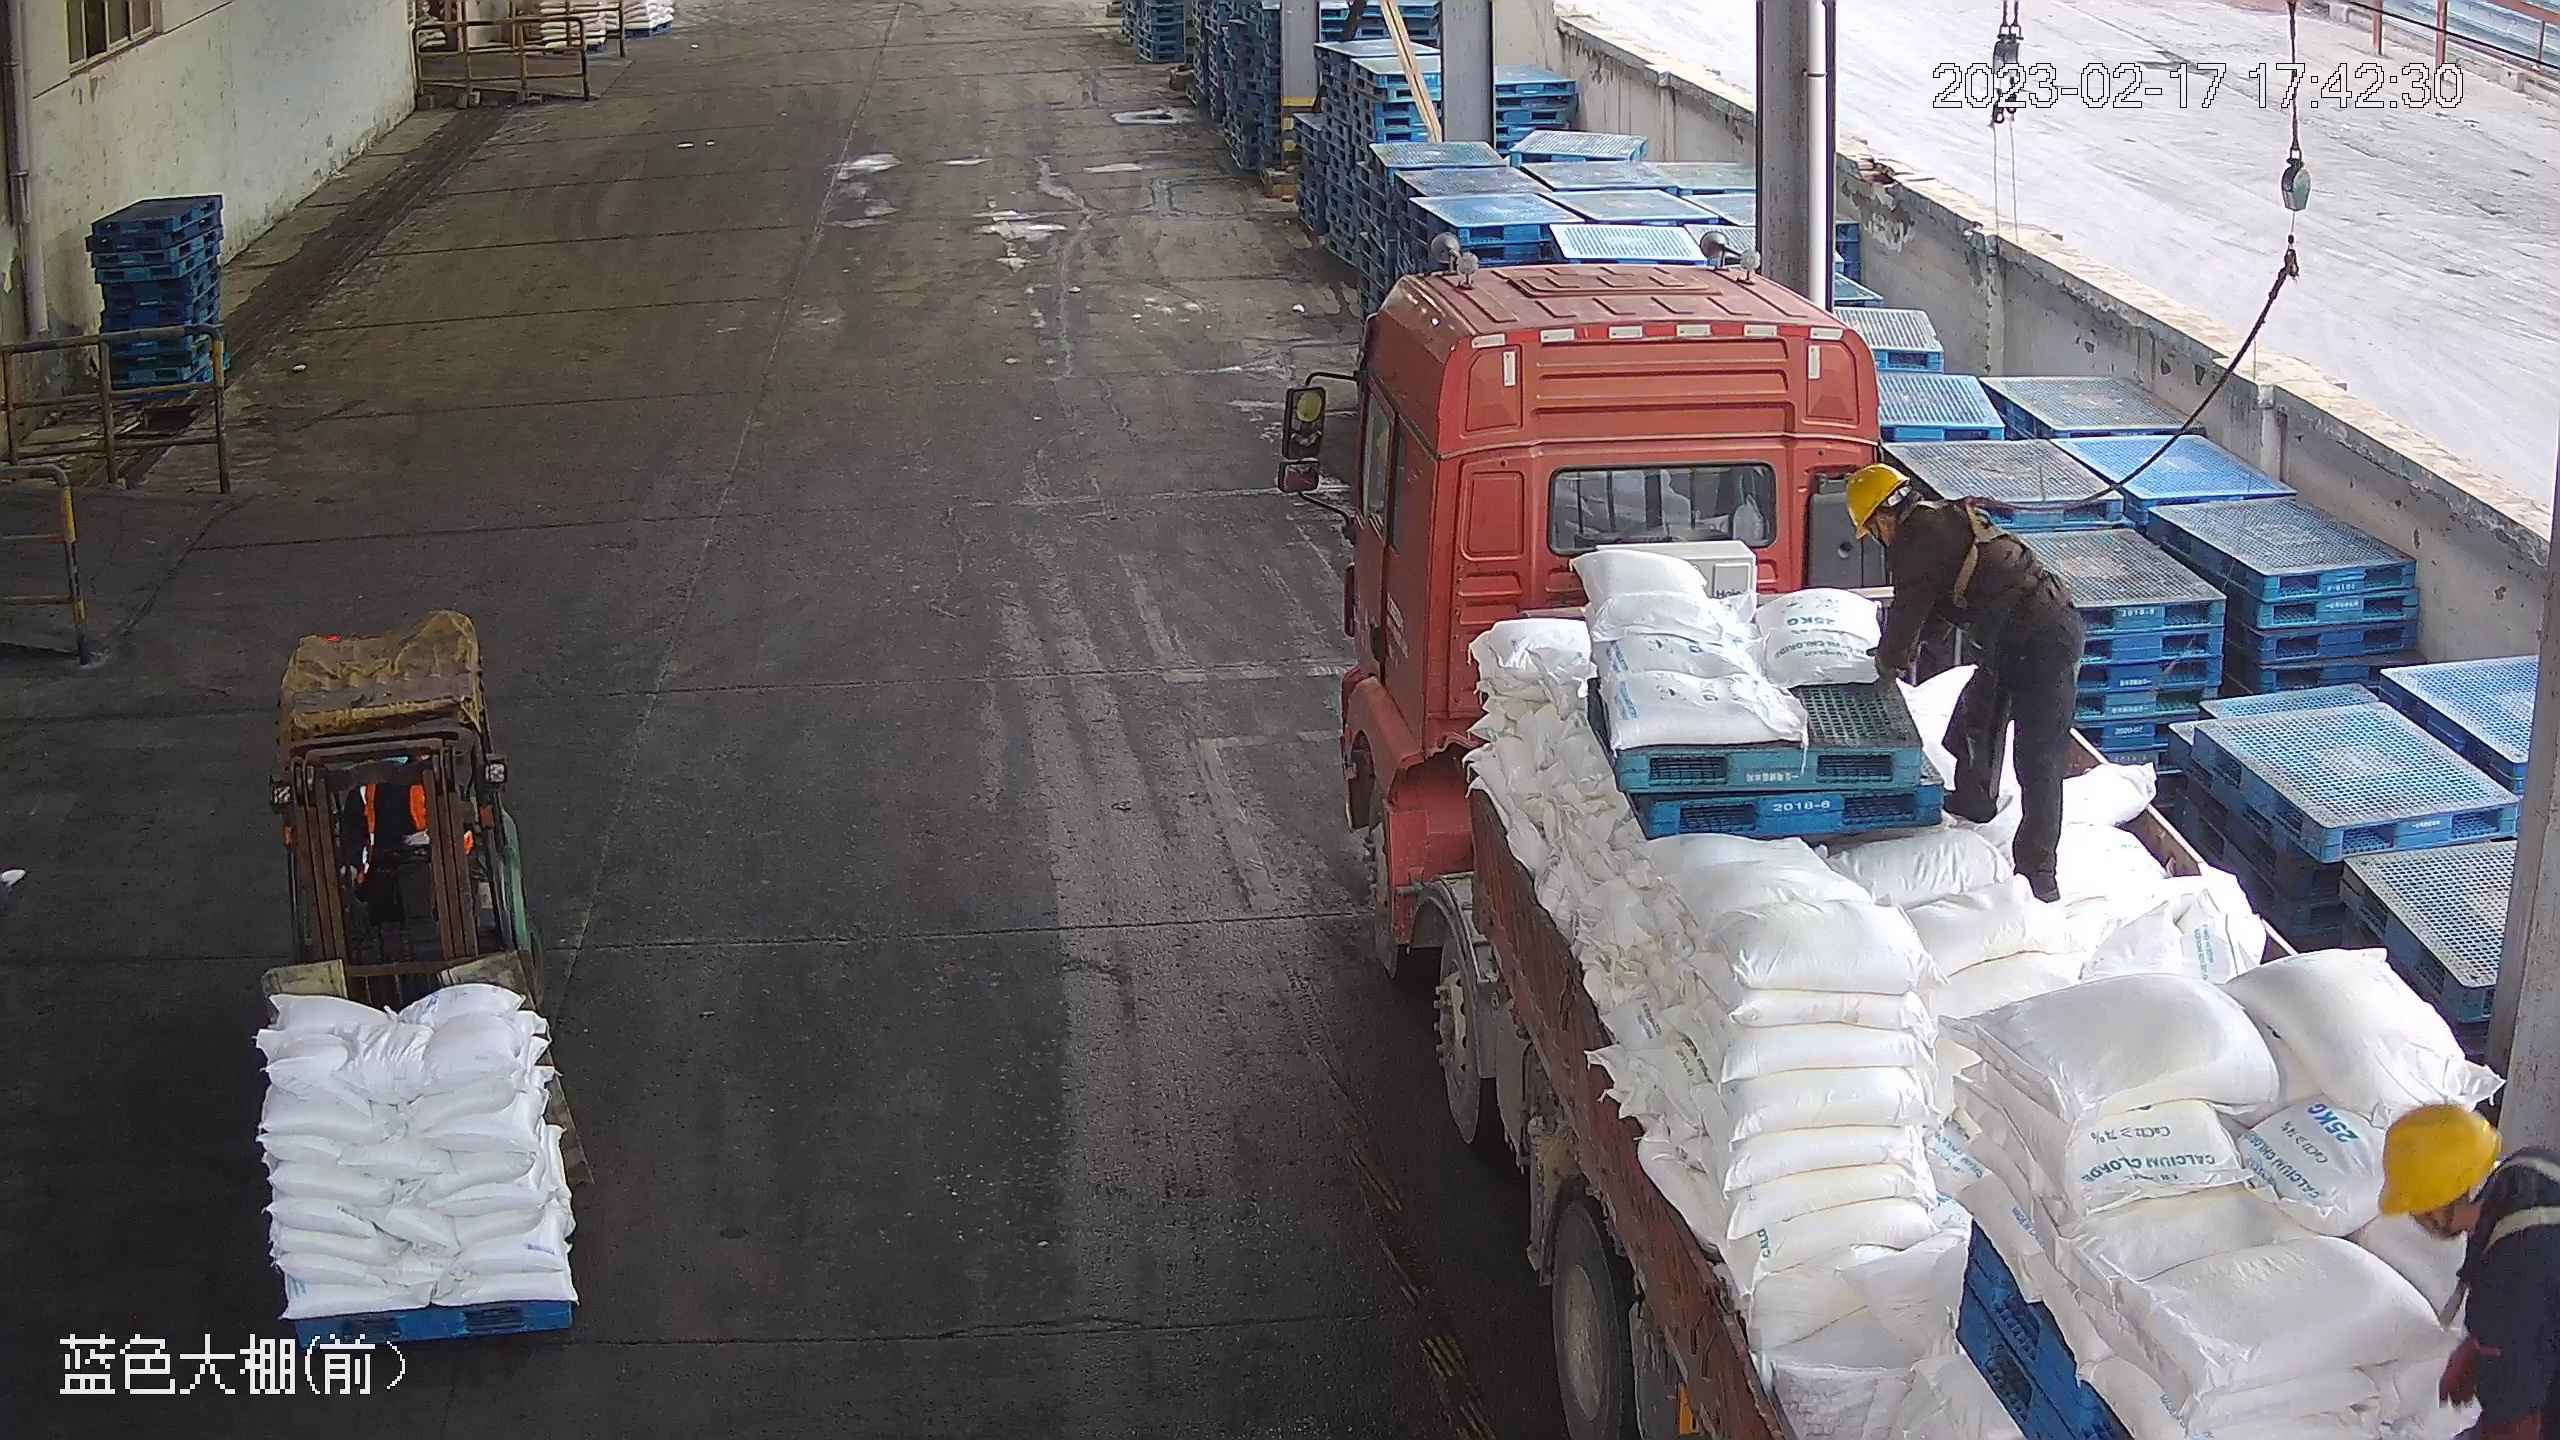belt: (1906, 489, 2015, 613), (2481, 1139, 2560, 1267)
head: (2376, 1108, 2560, 1383), (1849, 462, 1991, 613)
helmet: (2374, 1108, 2503, 1215), (1845, 462, 1912, 540)
people: (1845, 464, 2088, 903)
truck: (1273, 261, 2560, 1440)
